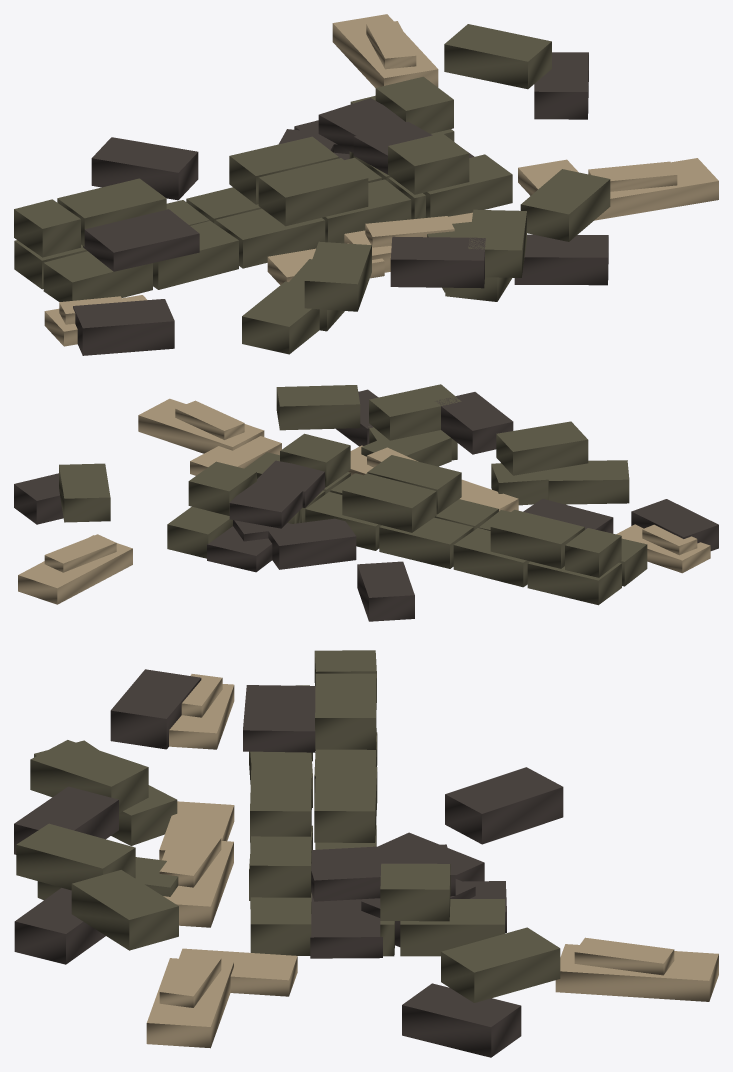
The model's file is SM_SacosRemateEspejo_v0_Recto_e2_MuyDanado_LOD0.fbx.
The picture shows the model from 3 angles, top to bottom: view 1: azimuth 30°, elevation 25°; view 2: azimuth 150°, elevation 25°; view 3: azimuth 270°, elevation 25°; orthographic projection. The views are drawn at different scales.
Visible parts, largest first — view 1: SM_sacos_piezas_v22_LOD0; view 2: SM_sacos_piezas_v22_LOD0; view 3: SM_sacos_piezas_v22_LOD0.
Part boxes in pixels (left/top/right/bottom): SM_sacos_piezas_v22_LOD0: left=14, top=14, right=718, bottom=355; SM_sacos_piezas_v22_LOD0: left=14, top=384, right=718, bottom=621; SM_sacos_piezas_v22_LOD0: left=14, top=650, right=718, bottom=1057.
Bounding box in the file's own units: 6.58 × 0.585 × 5.44.
